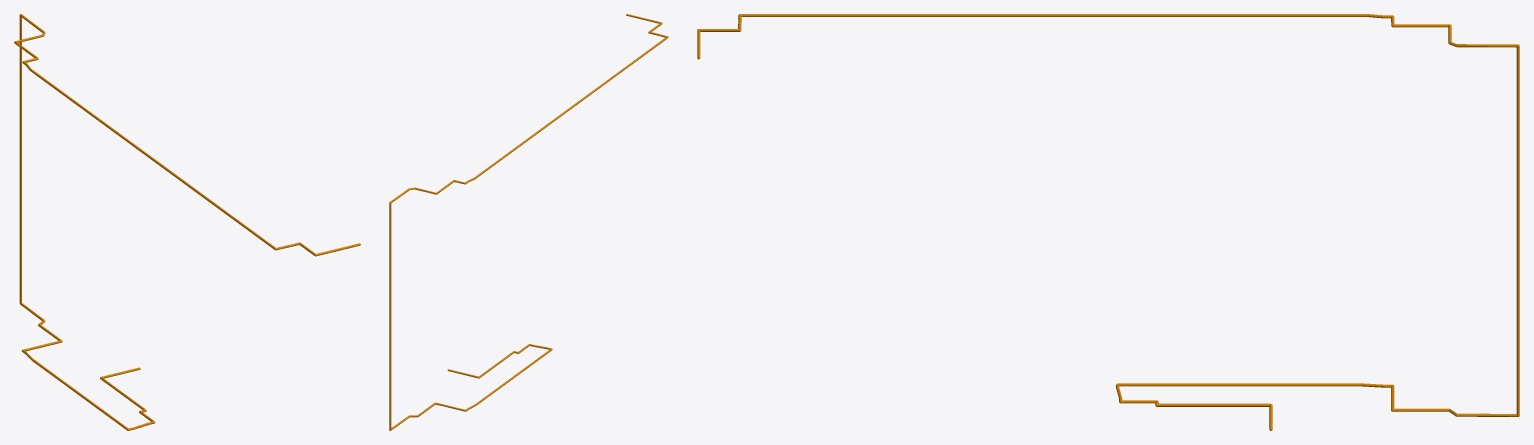
3 renders of one model, left to right at view 1: azimuth 30°, elevation 25°; view 2: azimuth 150°, elevation 25°; view 3: azimuth 270°, elevation 25°, orthographic. The views are drawn at different scales.
Bounding box in the file's own units: 666 × 2520 × 5044.
